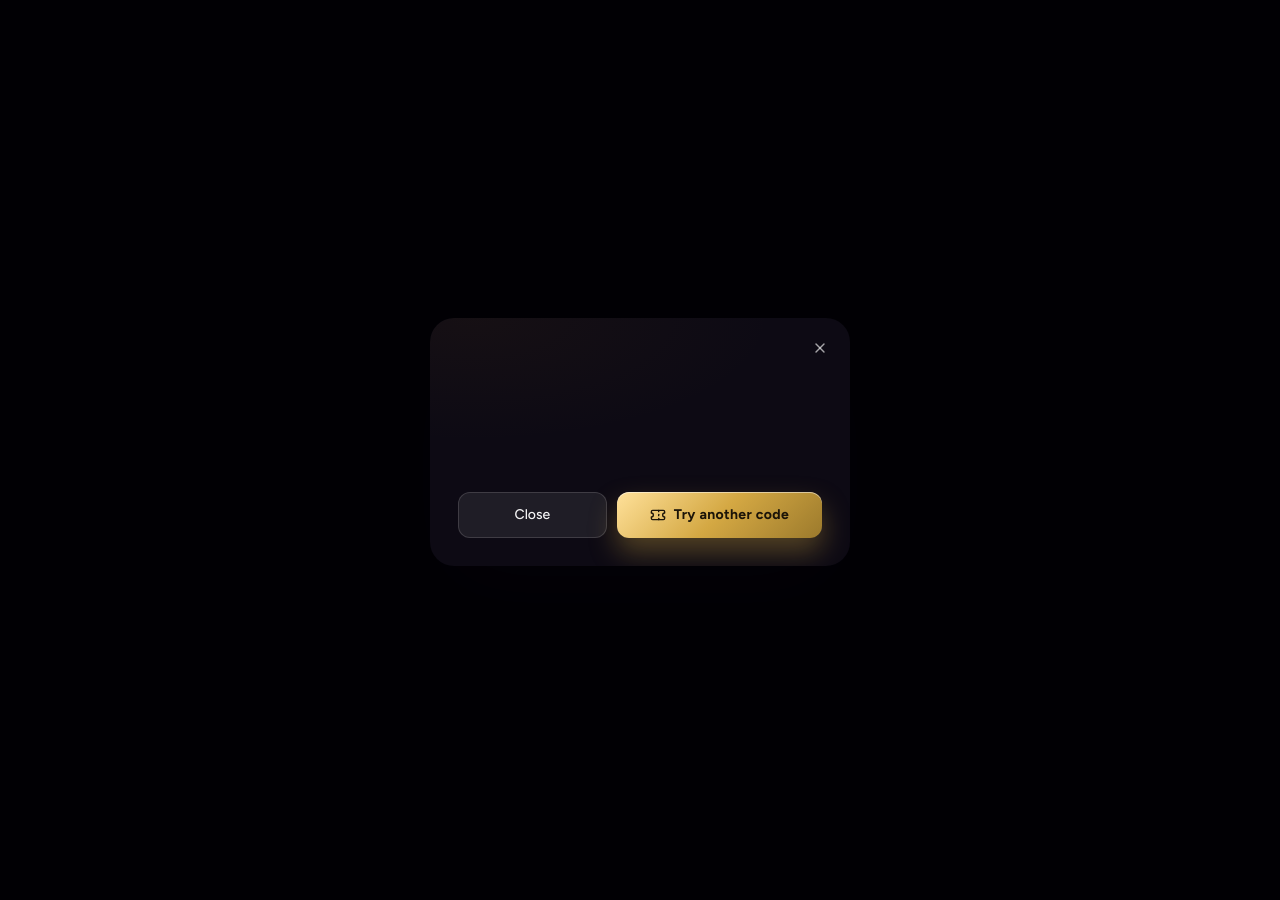
Test: PurchaseModal — Validating + coupon outcomes › 'Try another code' from a failed voucher state clears the code and returns to Initial
Earlier steps of the test are not shown.
Click the button with test id "purchase-error-primary" at (719, 515), box x1=617 y1=492 x2=822 y2=538
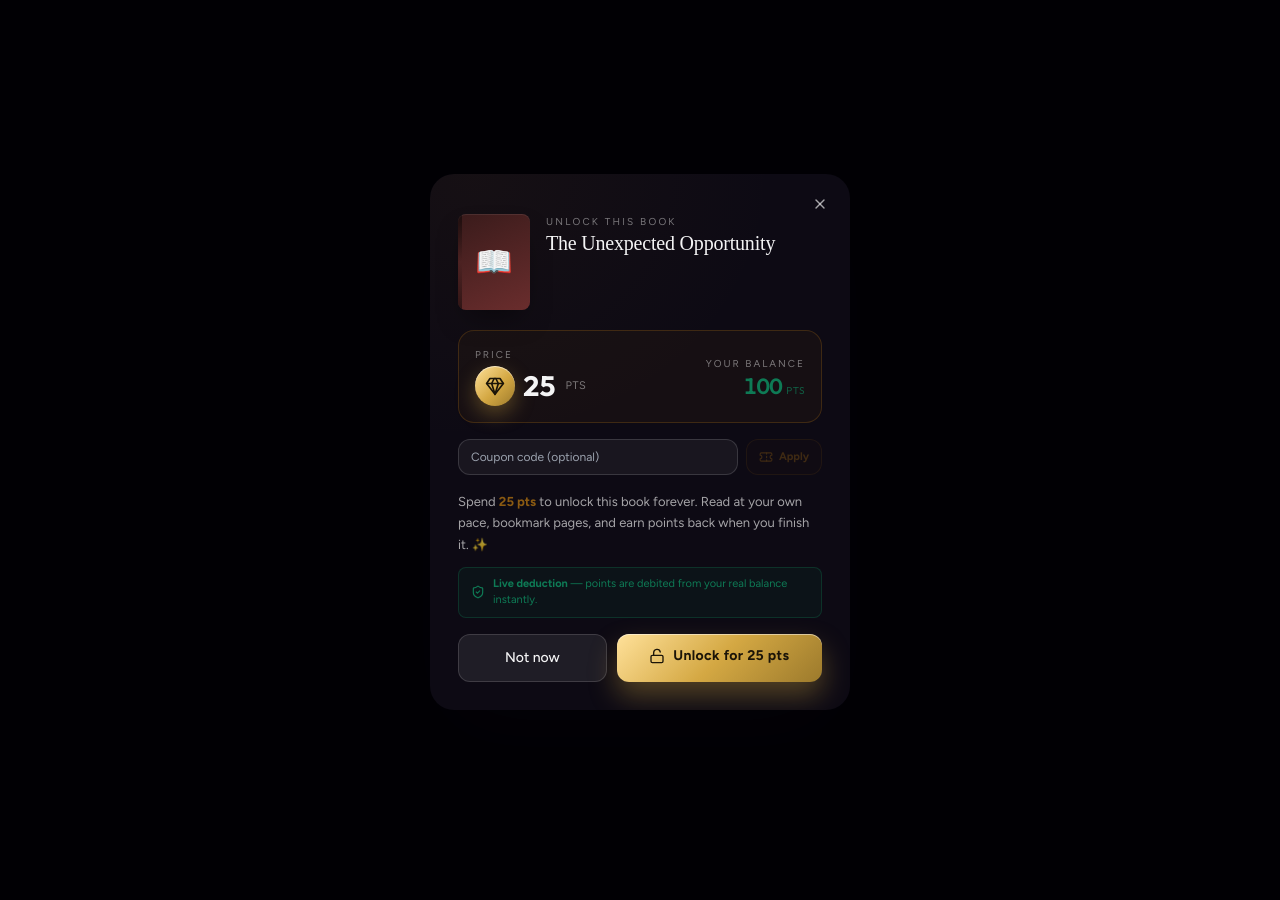
Check: the field with test id "coupon-input" is empty, box x1=458 y1=439 x2=738 y2=475
